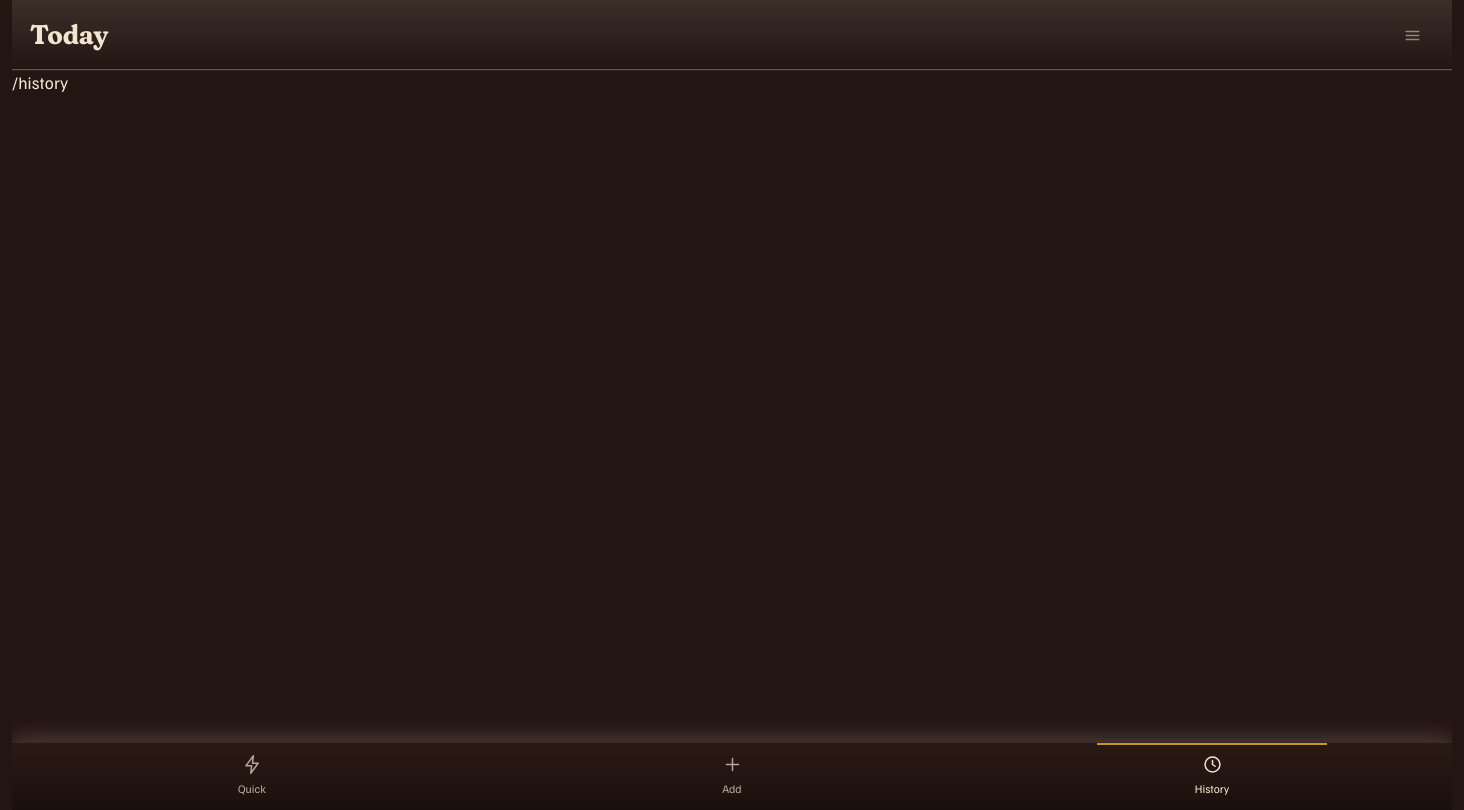
AppFrame › bottom navigation › opens the add sheet in place rather than navigating
This screenshot has width=1464, height=810.
Click the button "Add" at (732, 776), box [492,743,972,809]
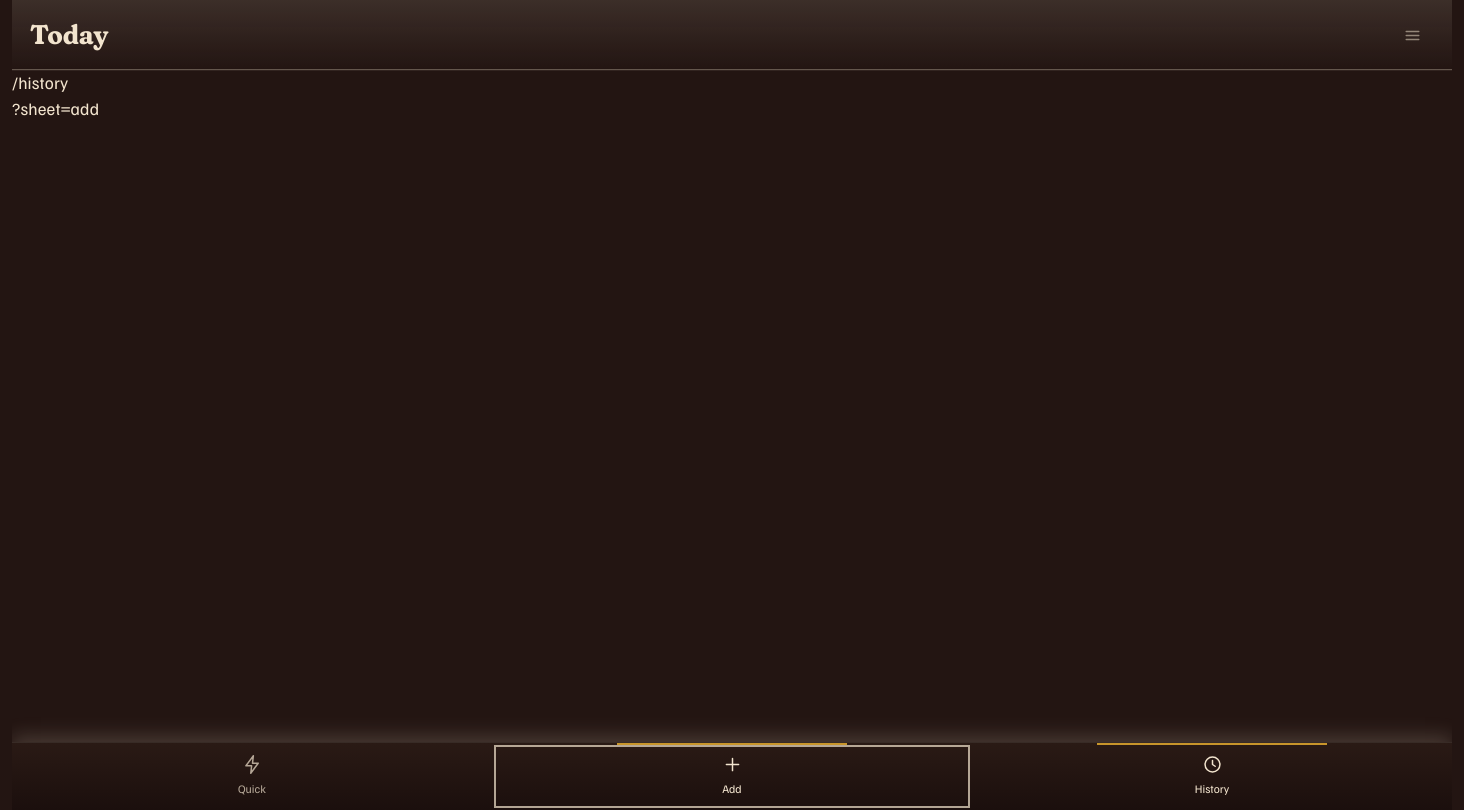
Expected: the text with test id "pathname" reads "/history", [12,71,68,93]
Expected: the text with test id "search" shows "sheet=", [12,97,99,119]
